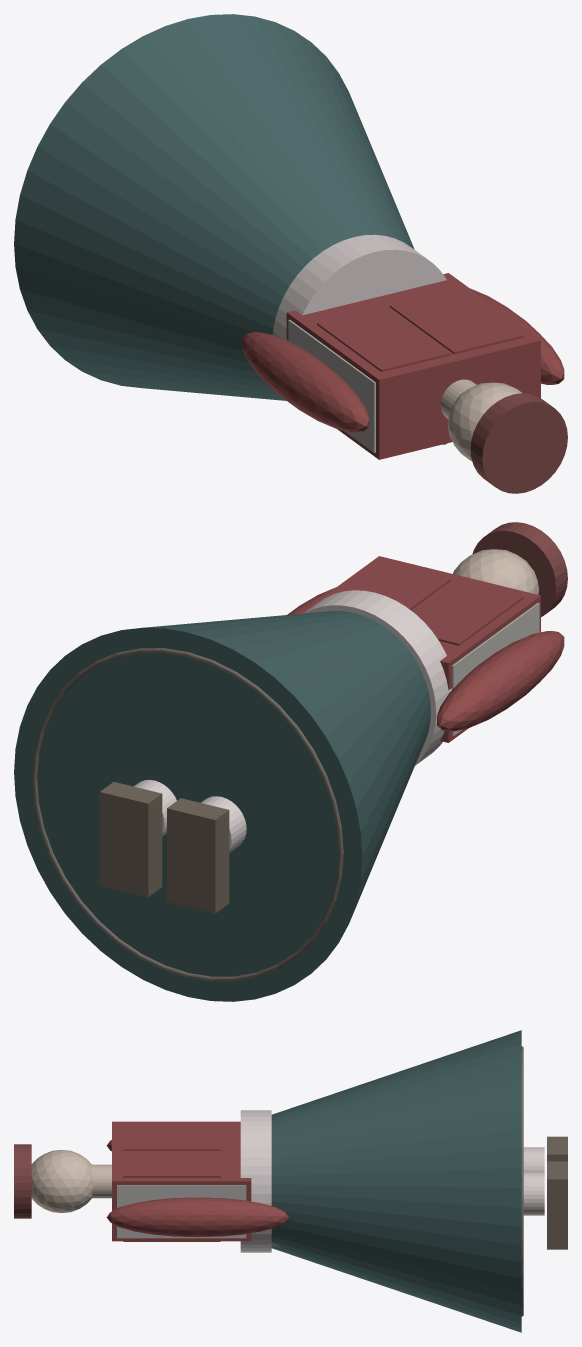
File: MASTER_096_STAGE3_DETAIL.glb
3 views of the same model, one above another, from view 1: azimuth 30°, elevation 25°; view 2: azimuth 150°, elevation 25°; view 3: azimuth 270°, elevation 25° (orthographic). The views are drawn at different scales.
Parts seen in each view (by area): view 1: slot_lower_main__fund_i_gjatë, slot_upper_inner__këmishë, slot_waist__brez, slot_headwear__mbulesë_koke, slot_upper_inner_sleeve_L, slot_upper_outer__jelek_L, slot_upper_outer__jelek_R, mannequin_torso, mannequin_head, slot_upper_inner_sleeve_R; view 2: slot_lower_main__fund_i_gjatë, slot_footwear__opinga_R, slot_footwear__opinga_L, slot_upper_inner_sleeve_L, detail_skirt_hem, slot_waist__brez, slot_upper_outer__jelek_L, slot_headwear__mbulesë_koke, slot_upper_inner__këmishë, slot_upper_outer__jelek_R, mannequin_head, mannequin_torso (+2 smaller); view 3: slot_lower_main__fund_i_gjatë, slot_upper_inner_sleeve_R, slot_upper_inner__këmishë, mannequin_head, slot_waist__brez, slot_upper_outer__jelek_R, slot_upper_outer__jelek_L, mannequin_torso, slot_footwear__opinga_R, slot_headwear__mbulesë_koke, slot_legwear__çorape_R, detail_skirt_hem (+3 smaller).
Boxes of the visible parts, x1,y1,x2,y2 form: slot_lower_main__fund_i_gjatë: [14, 14, 414, 400]; slot_upper_inner__këmishë: [286, 273, 540, 459]; slot_waist__brez: [273, 234, 446, 341]; slot_headwear__mbulesë_koke: [470, 393, 567, 493]; slot_upper_inner_sleeve_L: [242, 332, 369, 432]; slot_upper_outer__jelek_L: [317, 306, 450, 371]; slot_upper_outer__jelek_R: [389, 288, 523, 354]; mannequin_torso: [288, 319, 375, 452]; mannequin_head: [447, 382, 522, 460]; slot_upper_inner_sleeve_R: [470, 288, 564, 384]; slot_lower_main__fund_i_gjatë: [14, 610, 430, 1001]; slot_footwear__opinga_R: [99, 782, 162, 896]; slot_footwear__opinga_L: [167, 798, 229, 913]; slot_upper_inner_sleeve_L: [437, 631, 564, 731]; detail_skirt_hem: [32, 648, 343, 981]; slot_waist__brez: [303, 590, 451, 765]; slot_upper_outer__jelek_L: [412, 579, 523, 645]; slot_headwear__mbulesë_koke: [472, 522, 567, 616]; slot_upper_inner__këmishë: [301, 556, 540, 742]; slot_upper_outer__jelek_R: [341, 562, 450, 609]; mannequin_head: [453, 549, 539, 594]; mannequin_torso: [452, 603, 539, 736]; slot_lower_main__fund_i_gjatë: [271, 1030, 521, 1332]; slot_upper_inner_sleeve_R: [106, 1197, 288, 1237]; slot_upper_inner__këmishë: [112, 1121, 251, 1241]; mannequin_head: [31, 1150, 92, 1212]; slot_waist__brez: [240, 1110, 271, 1252]; slot_upper_outer__jelek_R: [123, 1150, 220, 1241]; slot_upper_outer__jelek_L: [123, 1123, 220, 1150]; mannequin_torso: [117, 1185, 246, 1238]; slot_footwear__opinga_R: [547, 1161, 567, 1249]; slot_headwear__mbulesë_koke: [14, 1144, 31, 1218]; slot_legwear__çorape_R: [523, 1172, 544, 1215]; detail_skirt_hem: [521, 1046, 523, 1316].
Bounding box in the file's own units: 0.9355 × 0.9355 × 1.71.
